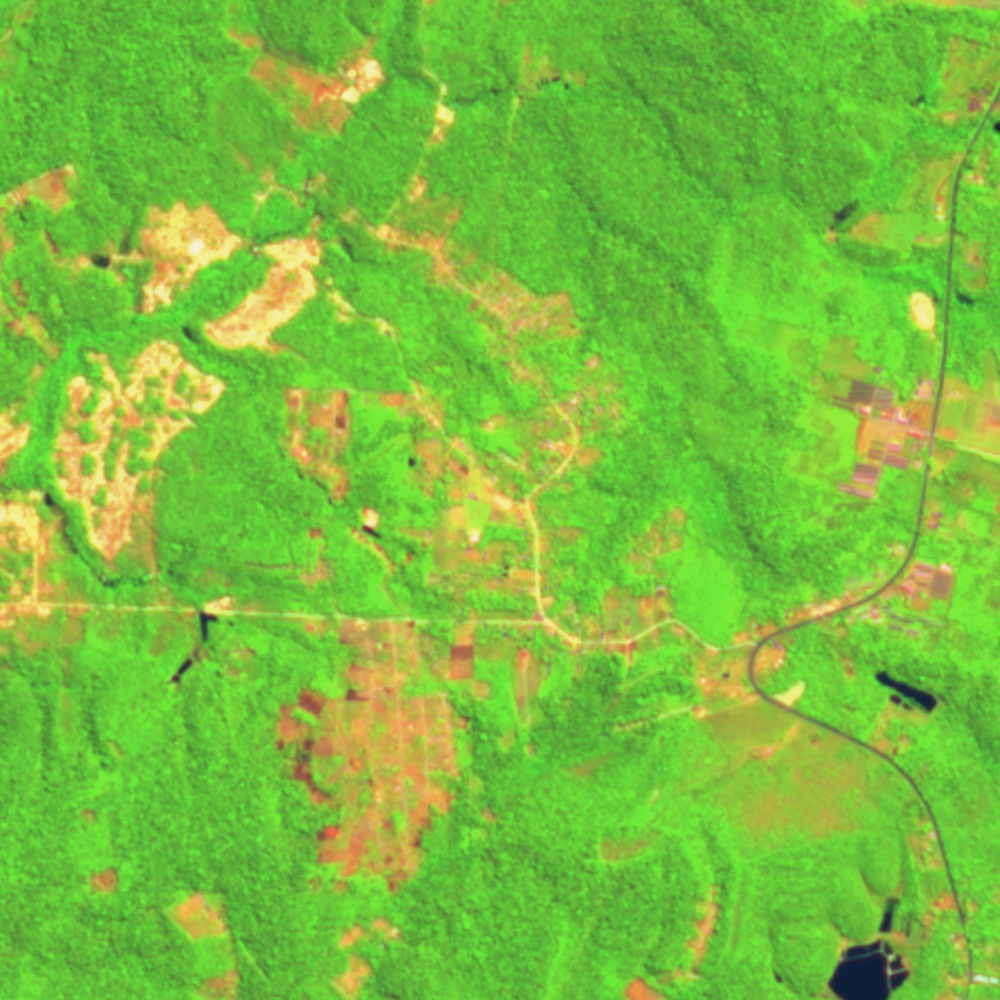legal: (268, 614, 502, 899), (37, 341, 230, 582), (350, 199, 590, 347), (814, 338, 1000, 504), (29, 191, 248, 318), (526, 503, 692, 657), (780, 543, 958, 675), (376, 382, 522, 536), (202, 213, 351, 363), (418, 498, 585, 623), (816, 145, 1000, 258), (223, 24, 390, 141), (899, 816, 1000, 1000), (519, 346, 627, 489), (692, 610, 814, 732), (627, 865, 736, 1000), (1, 494, 89, 655), (274, 379, 364, 500), (455, 44, 594, 121), (161, 889, 254, 1000), (909, 25, 1000, 137), (822, 895, 916, 1000), (394, 79, 459, 204), (1, 156, 87, 245), (1, 279, 77, 378), (703, 721, 798, 796), (235, 146, 335, 213), (167, 593, 233, 687), (333, 914, 402, 1000), (251, 529, 336, 588), (502, 626, 550, 723), (873, 666, 943, 723), (350, 504, 402, 576), (953, 231, 994, 303), (1, 403, 35, 489), (905, 289, 943, 337), (870, 732, 915, 763), (919, 501, 956, 534), (89, 861, 123, 895), (71, 806, 98, 827)
